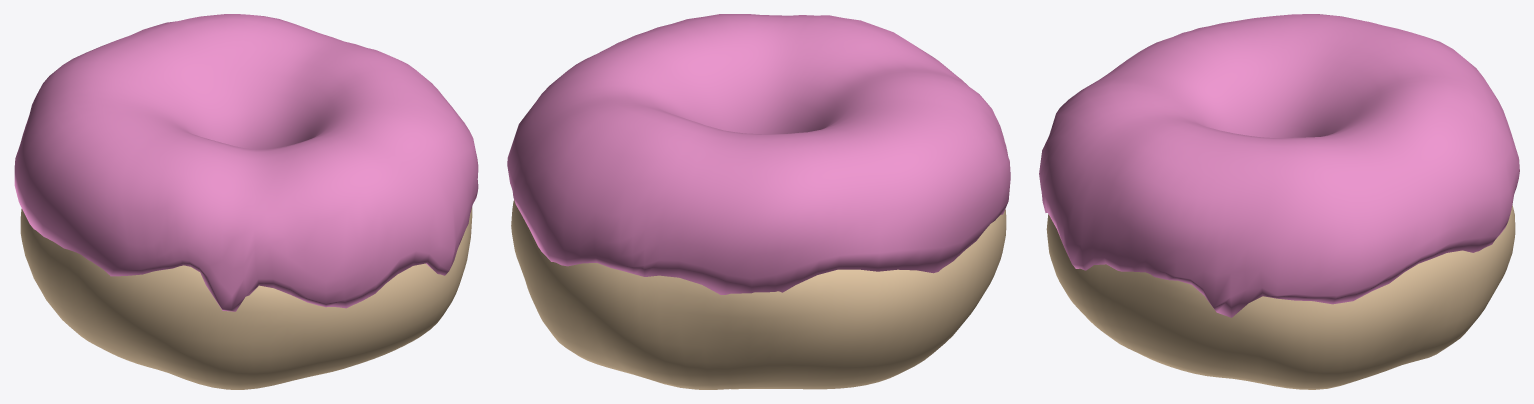
The model's file is donut.glb.
The picture shows the model from 3 angles, left to right: view 1: azimuth 30°, elevation 25°; view 2: azimuth 150°, elevation 25°; view 3: azimuth 270°, elevation 25°; orthographic projection. The views are drawn at different scales.
Parts seen in each view (by area): view 1: Icing, Donut; view 2: Icing, Donut; view 3: Icing, Donut.
Part boxes in pixels (box(x1,y1,x2,y2)): Icing: box(14, 14, 478, 311); Donut: box(20, 207, 472, 389); Icing: box(507, 14, 1010, 294); Donut: box(511, 200, 1006, 389); Icing: box(1039, 14, 1519, 317); Donut: box(1046, 205, 1515, 389).
Size of what is drawn, in the model's own units: 0.1032 by 0.0595 by 0.1048.
